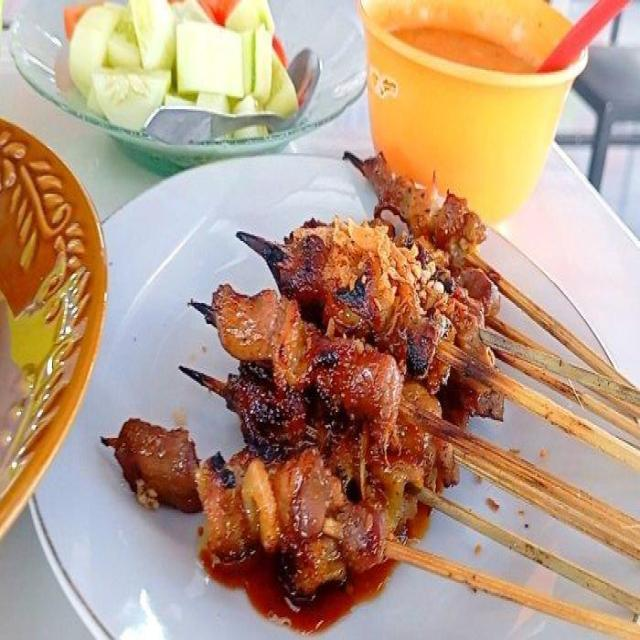Sate: (188, 174, 616, 604)
